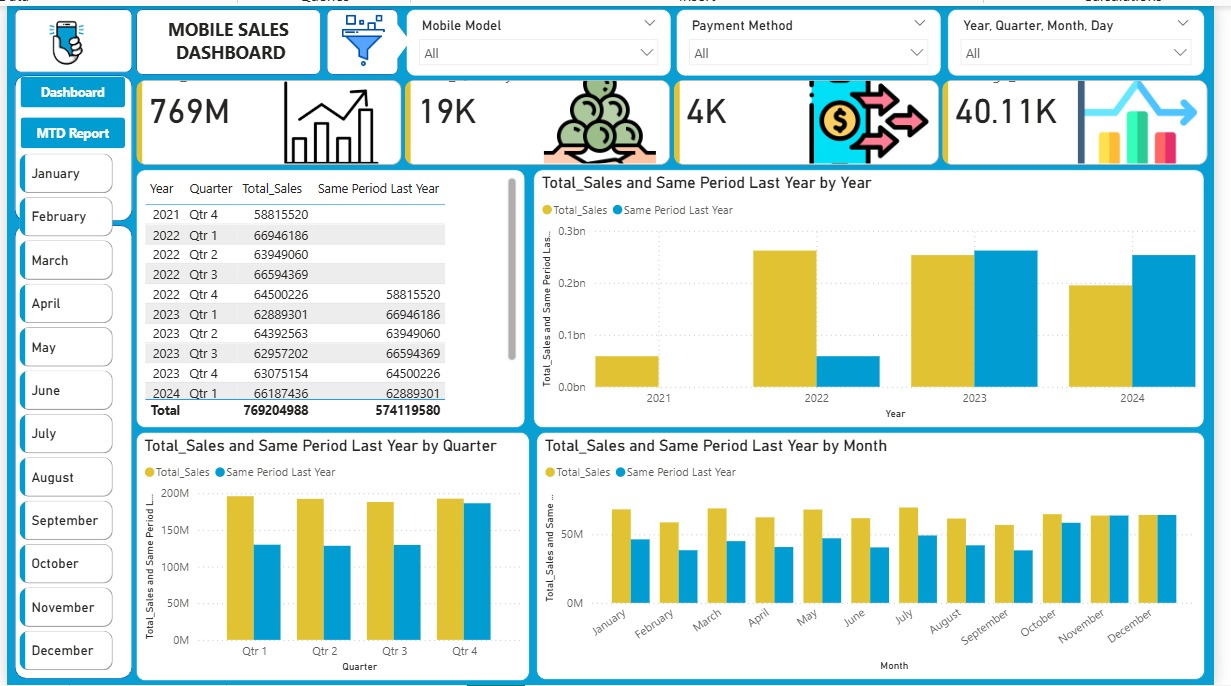

What the dashboard file says about the page in this screenshot:
{"tool":"powerbi","page":{"name":"Same Period Last Year","canvas":[1280,720],"ordinal":2},"visuals":[{"type":"shape","box":[7.5,3.8,125,67.5],"z":0},{"type":"image","box":[23.8,3.8,78.8,71.2],"z":1000},{"type":"shape","box":[7.5,73.8,125,155],"z":2000},{"type":"cardVisual","fields":{"Data":["Sales_Data.Total_Sales","Sales_Data.Total_Quantity","Sales_Data.Transactions","Sales_Data.Average_Price"]},"box":[132.5,73.8,1147.5,100],"z":3000},{"type":"slicer","fields":{"Values":["Sales_Data.Mobile Model"]},"box":[423.8,3.8,281.2,71.2],"z":4000},{"type":"slicer","fields":{"Values":["Sales_Data.Payment Method"]},"box":[710,3.8,281.2,71.2],"z":5000},{"type":"slicer","fields":{"Values":["Custom_Calendar.Date.Variation.Date Hierarchy.Year","Custom_Calendar.Date.Variation.Date Hierarchy.Quarter","Custom_Calendar.Date.Variation.Date Hierarchy.Month","Custom_Calendar.Date.Variation.Date Hierarchy.Day"]},"box":[997.5,3.8,272.5,71.2],"z":6000},{"type":"shape","box":[338.8,3.8,76.2,70],"z":7000},{"type":"image","box":[337.5,3.8,81.2,66.2],"z":8000},{"type":"shape","box":[397.5,17.5,30,40],"z":9000},{"type":"shape","box":[137.5,3.8,196.2,70],"z":10000},{"type":"textbox","box":[156.2,6.2,162.5,63.8],"z":11000},{"type":"shape","box":[7.5,232.5,125,481.2],"z":12000},{"type":"advancedSlicerVisual","fields":{"Values":["Custom_Calendar.Date.Variation.Date Hierarchy.Month"]},"box":[11.2,241.2,110,472.5],"z":13000},{"type":"tableEx","fields":{"Values":["Custom_Calendar.Date.Variation.Date Hierarchy.Year","Custom_Calendar.Date.Variation.Date Hierarchy.Quarter","Sales_Data.Total_Sales","Sales_Data.Same Period Last Year"]},"box":[137.5,173.8,412.5,273.8],"z":14000},{"type":"clusteredColumnChart","fields":{"Category":["Custom_Calendar.Date.Variation.Date Hierarchy.Year","Custom_Calendar.Date.Variation.Date Hierarchy.Quarter"],"Y":["Sales_Data.Total_Sales","Sales_Data.Same Period Last Year"]},"box":[558.8,173.8,711.2,273.8],"z":15000},{"type":"clusteredColumnChart","fields":{"Y":["Sales_Data.Total_Sales","Sales_Data.Same Period Last Year"],"Category":["Custom_Calendar.Date.Variation.Date Hierarchy.Year","Custom_Calendar.Date.Variation.Date Hierarchy.Quarter","Custom_Calendar.Date.Variation.Date Hierarchy.Month","Custom_Calendar.Date.Variation.Date Hierarchy.Day"]},"box":[561.2,452.5,708.8,262.5],"z":16000},{"type":"clusteredColumnChart","fields":{"Category":["Custom_Calendar.Date.Variation.Date Hierarchy.Year","Custom_Calendar.Date.Variation.Date Hierarchy.Quarter"],"Y":["Sales_Data.Total_Sales","Sales_Data.Same Period Last Year"]},"box":[136.2,451.2,417.5,263.8],"z":17000},{"type":"pageNavigator","box":[15,88.8,110,130],"z":18000}]}

Visuals, with their boxes in screenshot pixels (x1, y1, x2, y2), scaled from the page's 1280x720 canvas onto the 1231x686 screenshot:
shape: [left=7, top=4, right=127, bottom=68]
image: [left=23, top=4, right=99, bottom=71]
shape: [left=7, top=70, right=127, bottom=218]
cardVisual - Sales_Data.Total_Sales x Sales_Data.Total_Quantity: [left=127, top=70, right=1230, bottom=166]
slicer - Sales_Data.Mobile Model: [left=408, top=4, right=678, bottom=71]
slicer - Sales_Data.Payment Method: [left=683, top=4, right=953, bottom=71]
slicer - Custom_Calendar.Date.Variation.Date Hierarchy.Year x Custom_Calendar.Date.Variation.Date Hierarchy.Quarter: [left=959, top=4, right=1221, bottom=71]
shape: [left=326, top=4, right=399, bottom=70]
image: [left=325, top=4, right=403, bottom=67]
shape: [left=382, top=17, right=411, bottom=55]
shape: [left=132, top=4, right=321, bottom=70]
textbox: [left=150, top=6, right=306, bottom=67]
shape: [left=7, top=222, right=127, bottom=680]
advancedSlicerVisual - Custom_Calendar.Date.Variation.Date Hierarchy.Month: [left=11, top=230, right=117, bottom=680]
tableEx - Custom_Calendar.Date.Variation.Date Hierarchy.Year x Custom_Calendar.Date.Variation.Date Hierarchy.Quarter: [left=132, top=166, right=529, bottom=426]
clusteredColumnChart - Custom_Calendar.Date.Variation.Date Hierarchy.Year x Custom_Calendar.Date.Variation.Date Hierarchy.Quarter: [left=537, top=166, right=1221, bottom=426]
clusteredColumnChart - Sales_Data.Total_Sales x Sales_Data.Same Period Last Year: [left=540, top=431, right=1221, bottom=681]
clusteredColumnChart - Custom_Calendar.Date.Variation.Date Hierarchy.Year x Custom_Calendar.Date.Variation.Date Hierarchy.Quarter: [left=131, top=430, right=533, bottom=681]
pageNavigator: [left=14, top=85, right=120, bottom=208]
